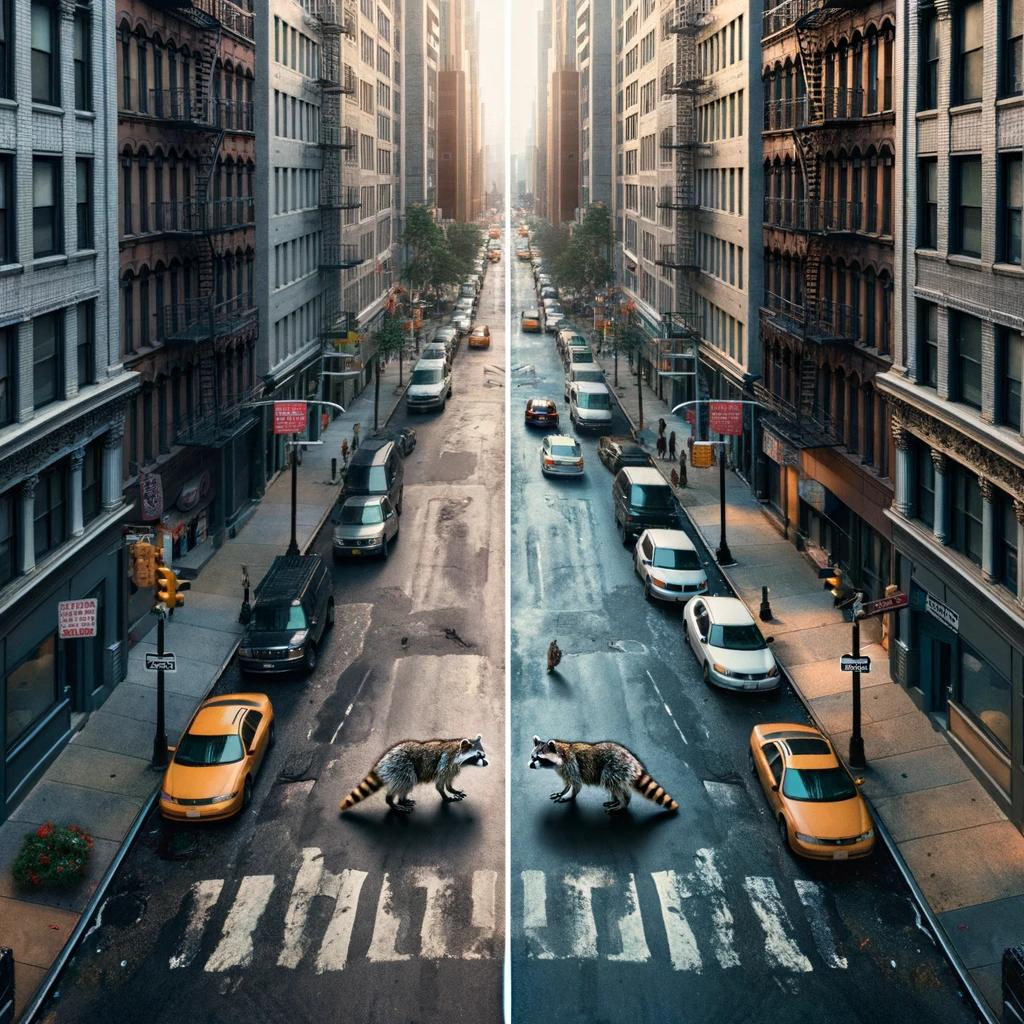raccoon: (525, 728, 687, 827), (333, 727, 495, 825)
